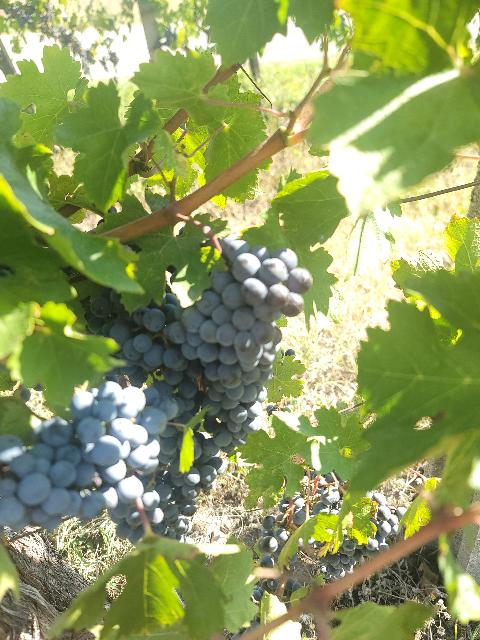grapes: (181, 236, 312, 451), (0, 381, 179, 530), (88, 289, 205, 408), (146, 424, 226, 542)
